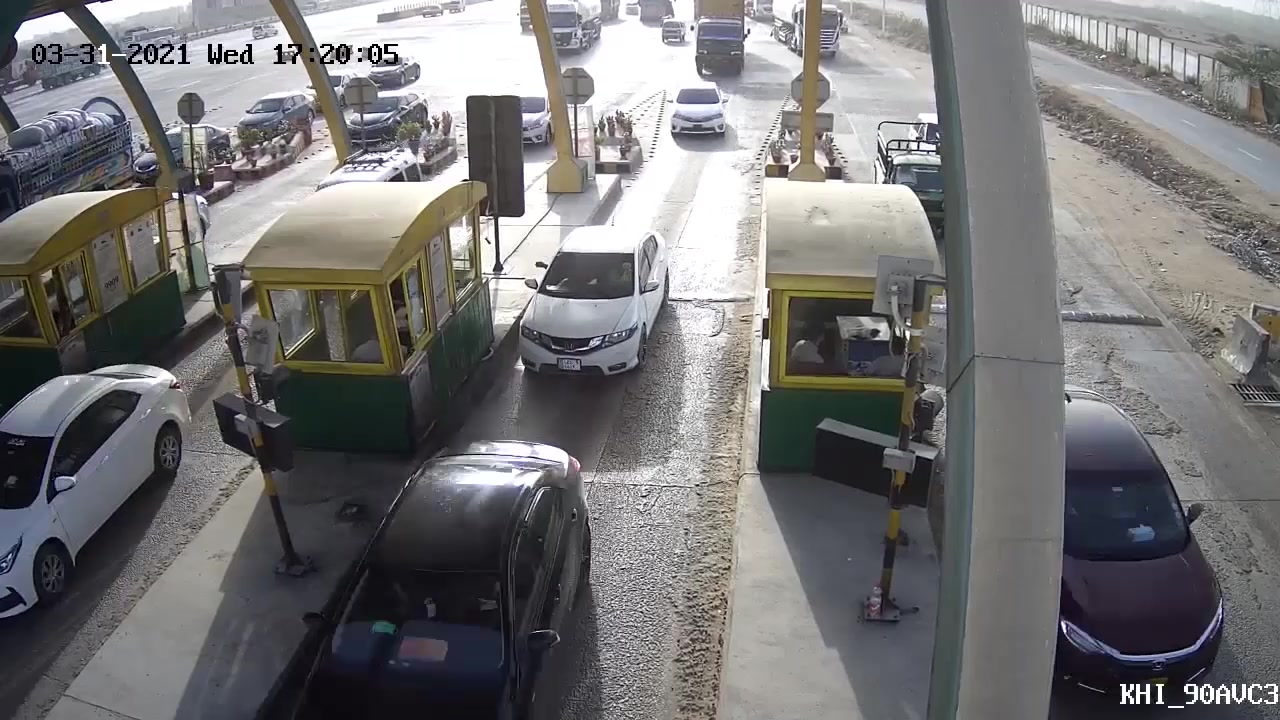F1: (514, 216, 686, 390)
